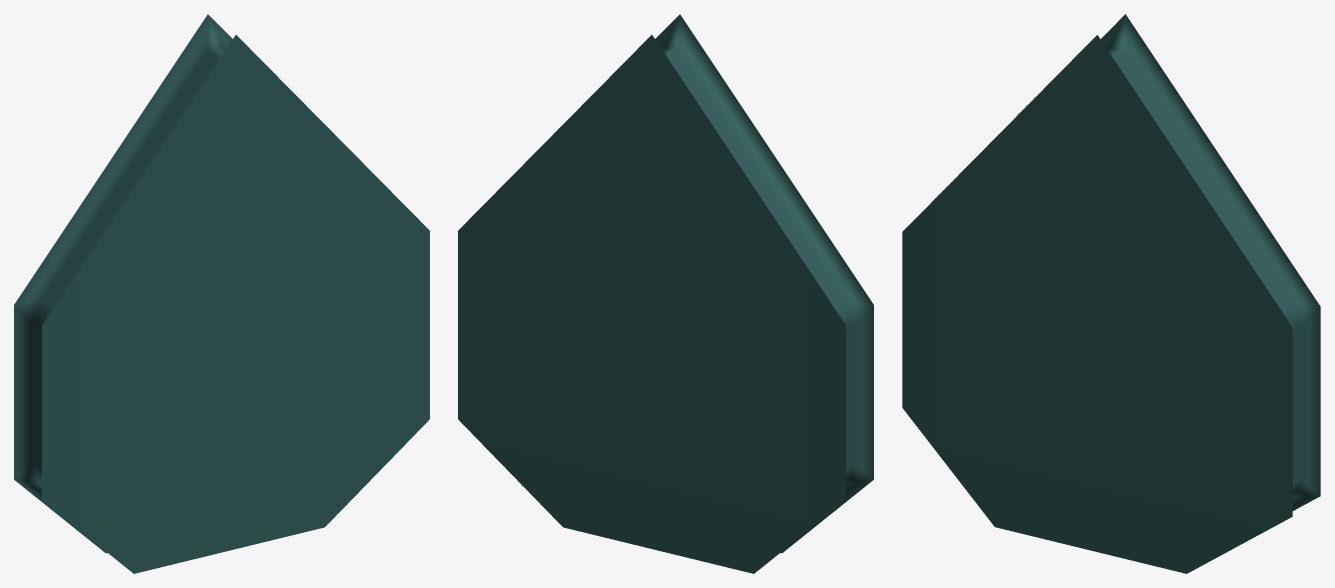
The model's file is Drop-seal.glb.
3 renders of one model, left to right at view 1: azimuth 30°, elevation 25°; view 2: azimuth 150°, elevation 25°; view 3: azimuth 330°, elevation 25°, orthographic.
Visible parts, largest first — view 1: Drop-seal; view 2: Drop-seal; view 3: Drop-seal.
Part boxes in pixels (x1,y1,x2,y2): Drop-seal: (14, 14, 429, 573); Drop-seal: (458, 14, 873, 573); Drop-seal: (902, 14, 1320, 573).
Bounding box in the file's own units: 0.032 × 0.0406 × 0.004.
1 material, 1 textured.
